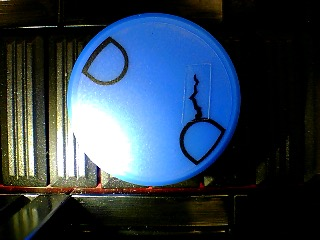CRACK: (66, 13, 241, 187)
